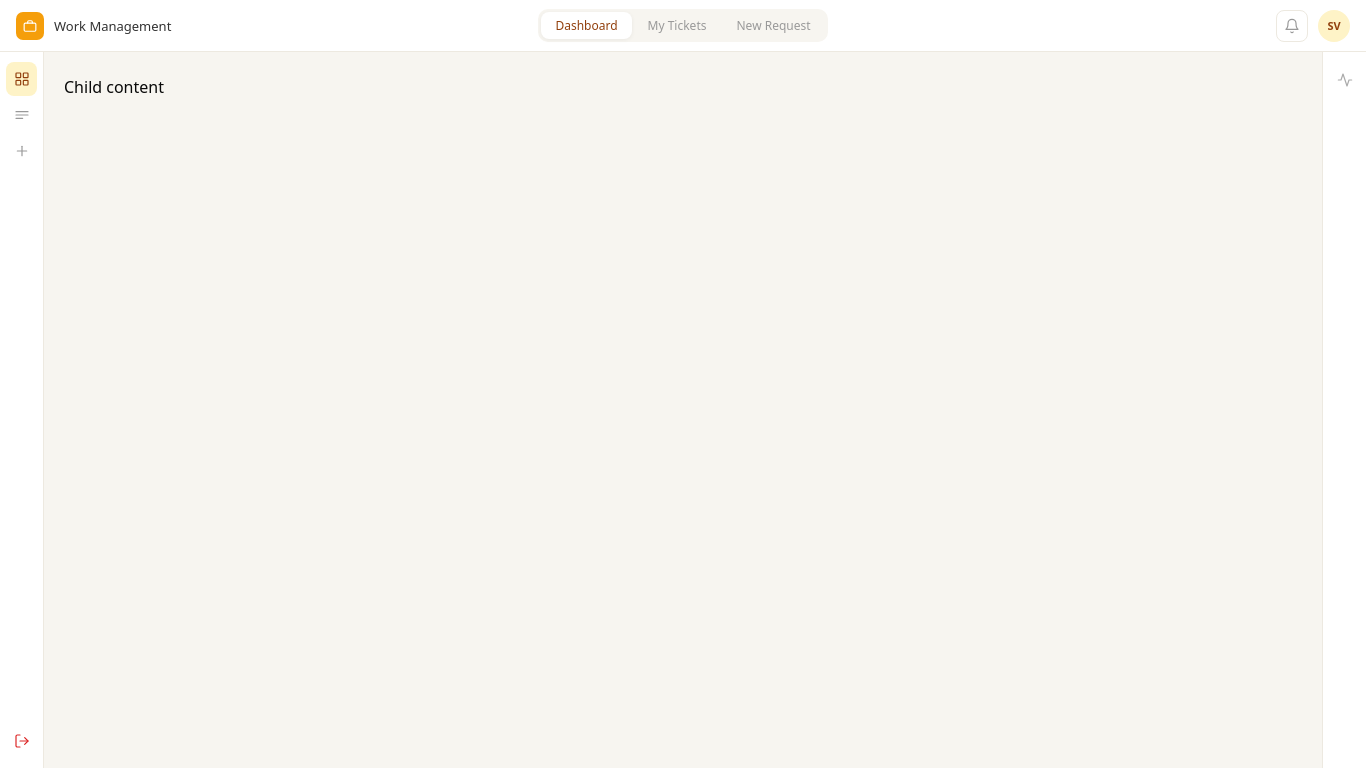
it: AppShell › renders admin role label for admin user
The width and height of the screenshot is (1366, 768).
Click the button "SV" at (1334, 26), box [1318,10,1350,42]
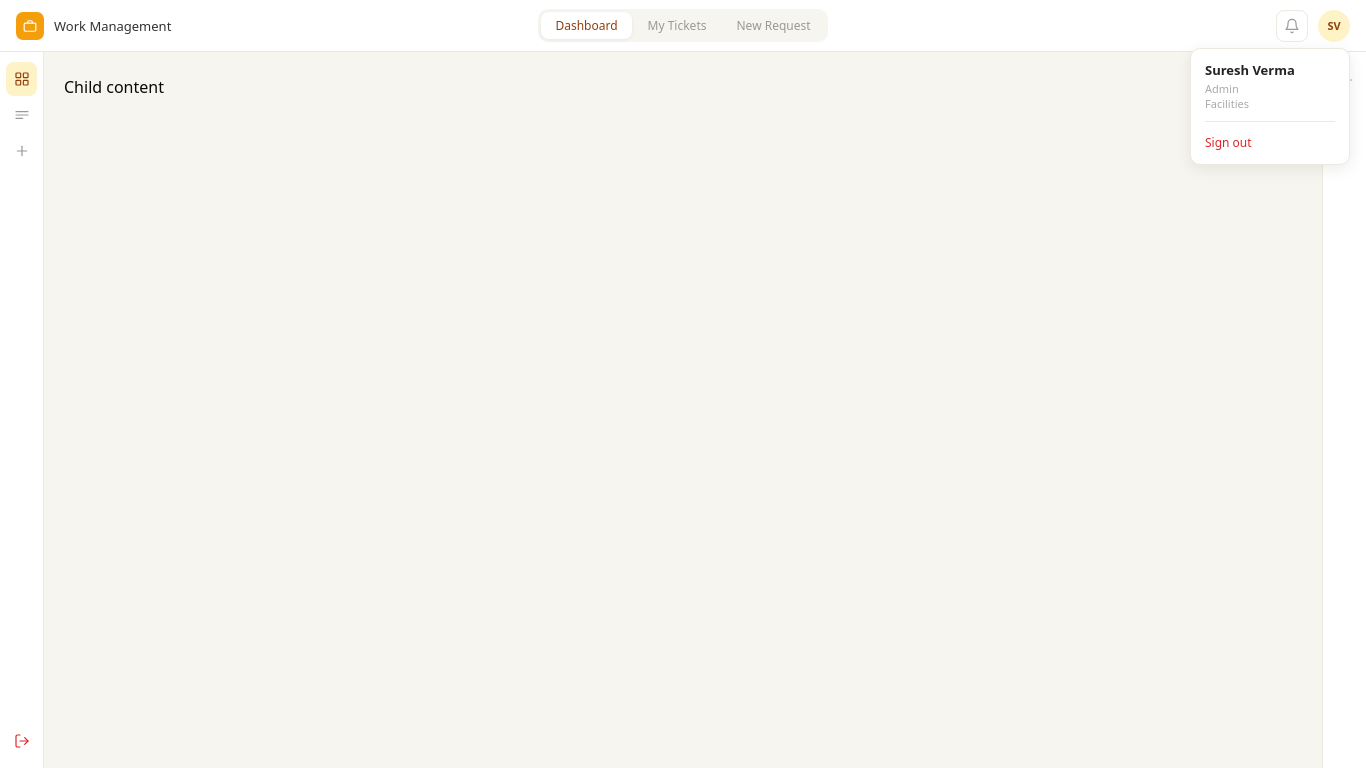
expect the text "admin" is shown: met, box [1205,80,1239,96]
